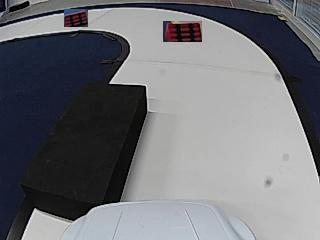block: (24, 82, 146, 209)
